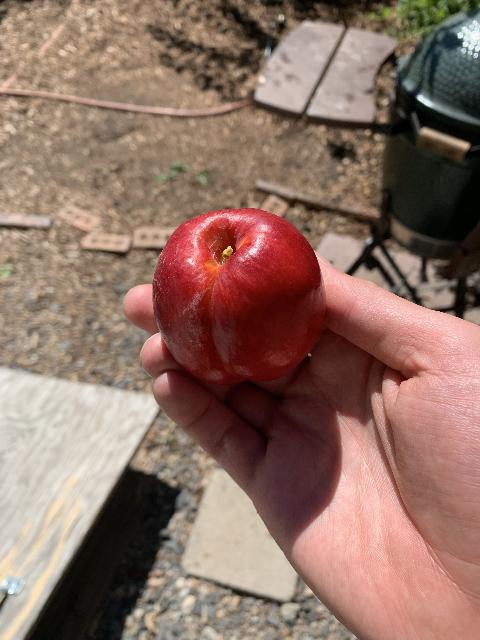Apples: (152, 208, 322, 390)
